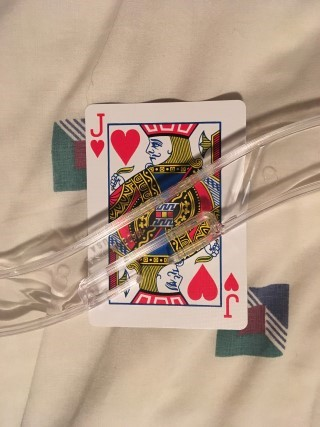JackOfHearts: (86, 100, 249, 331)
